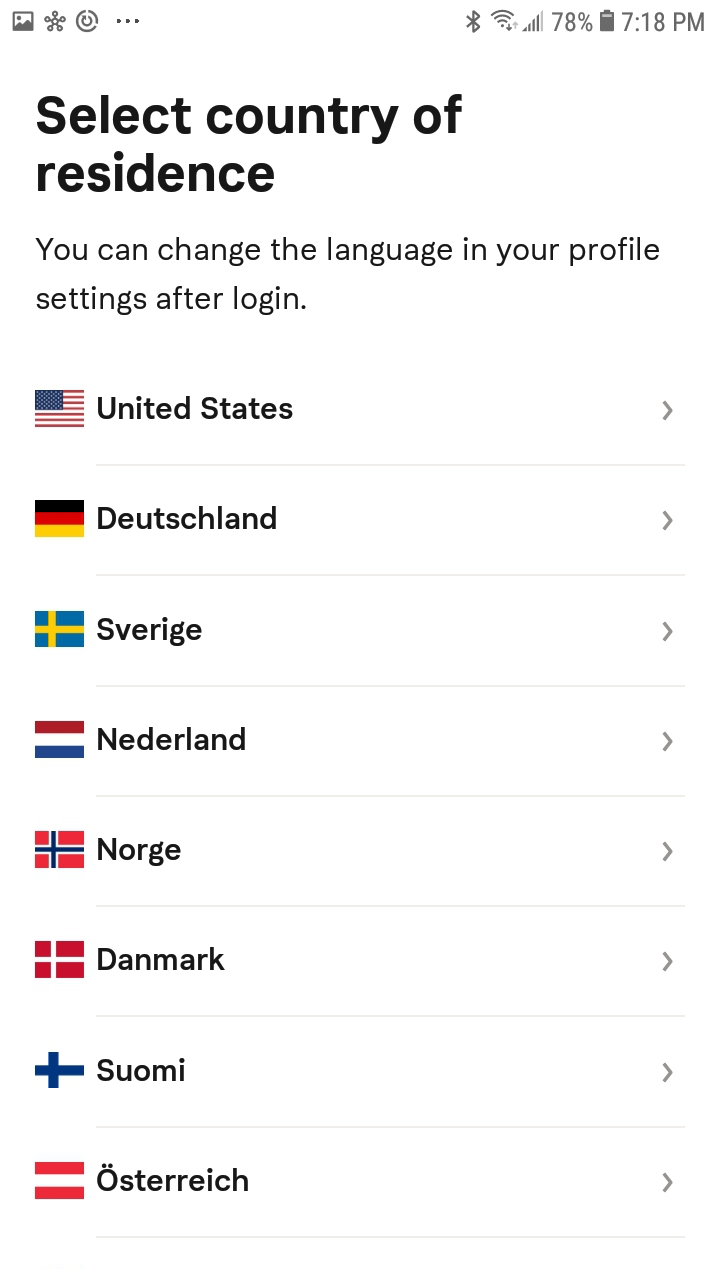Icon: (662, 731, 674, 753), (662, 400, 674, 421), (662, 621, 674, 642), (662, 841, 674, 862), (661, 1172, 673, 1193), (662, 951, 673, 973), (663, 510, 674, 531), (663, 1061, 674, 1082)
Image: (35, 1161, 86, 1200), (35, 500, 85, 539), (35, 941, 86, 979), (35, 390, 85, 428), (35, 721, 85, 759), (36, 831, 86, 869), (35, 1052, 86, 1089), (36, 611, 86, 648)
Text: (35, 236, 660, 316), (37, 94, 463, 194), (98, 395, 294, 420), (98, 505, 277, 530), (96, 1163, 249, 1192), (98, 726, 246, 751), (98, 946, 226, 971), (97, 617, 203, 647), (98, 838, 182, 867), (97, 1057, 186, 1082)
UpperTaskBar: (1, 1, 720, 34)
